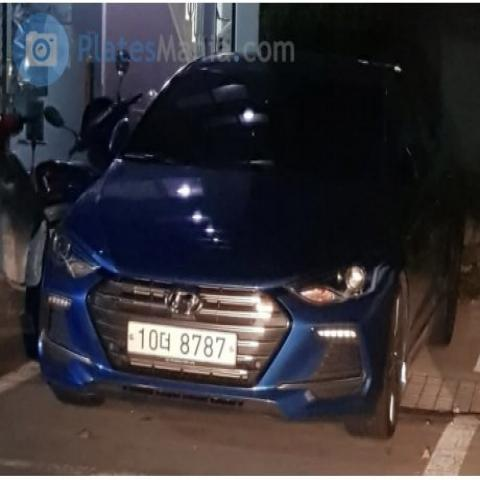LP: (114, 317, 246, 372)
